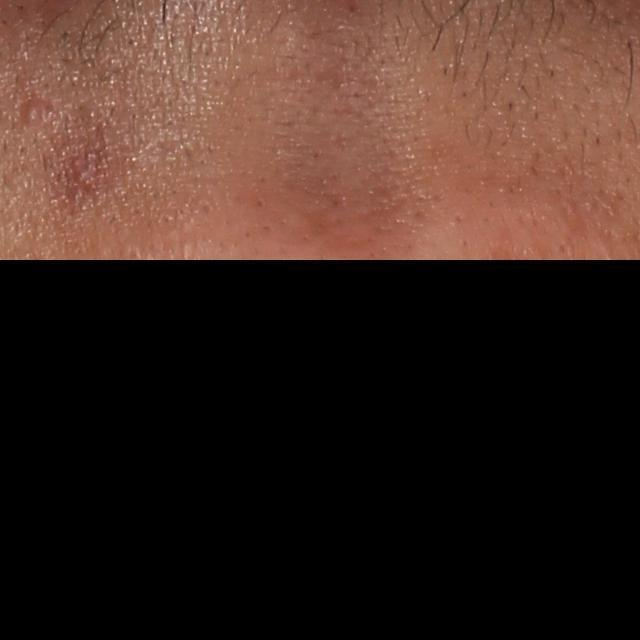papule: (23, 95, 44, 129)
